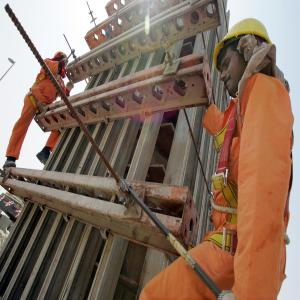yellow: (218, 19, 273, 95), (55, 52, 68, 72)
